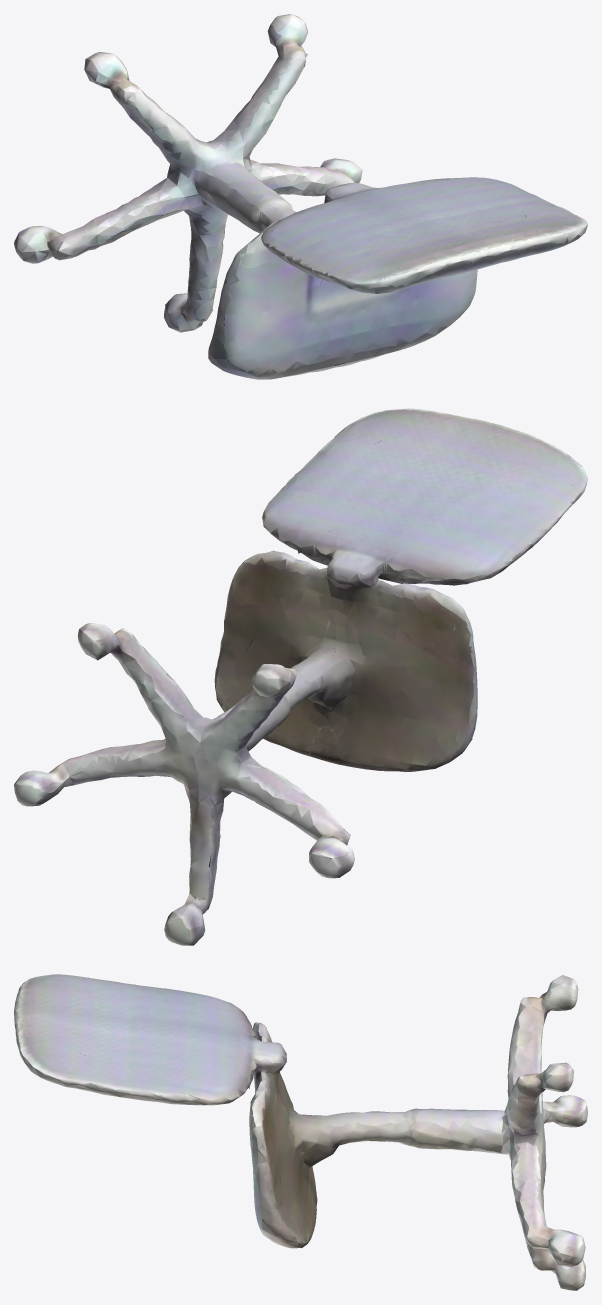
File: spar3d.glb
3 views of the same model, one above another, from view 1: azimuth 30°, elevation 25°; view 2: azimuth 150°, elevation 25°; view 3: azimuth 270°, elevation 25° (orthographic). The views are drawn at different scales.
Parts seen in each view (by area): view 1: world; view 2: world; view 3: world.
Boxes of the visible parts, x1=… form: world: x1=14, y1=14, x2=587, y2=379; world: x1=14, y1=408, x2=587, y2=945; world: x1=14, y1=974, x2=587, y2=1290.
Bounding box in the file's own units: 0.5589 × 0.4778 × 0.8976.
Materials: 1 (1 with a texture image).
